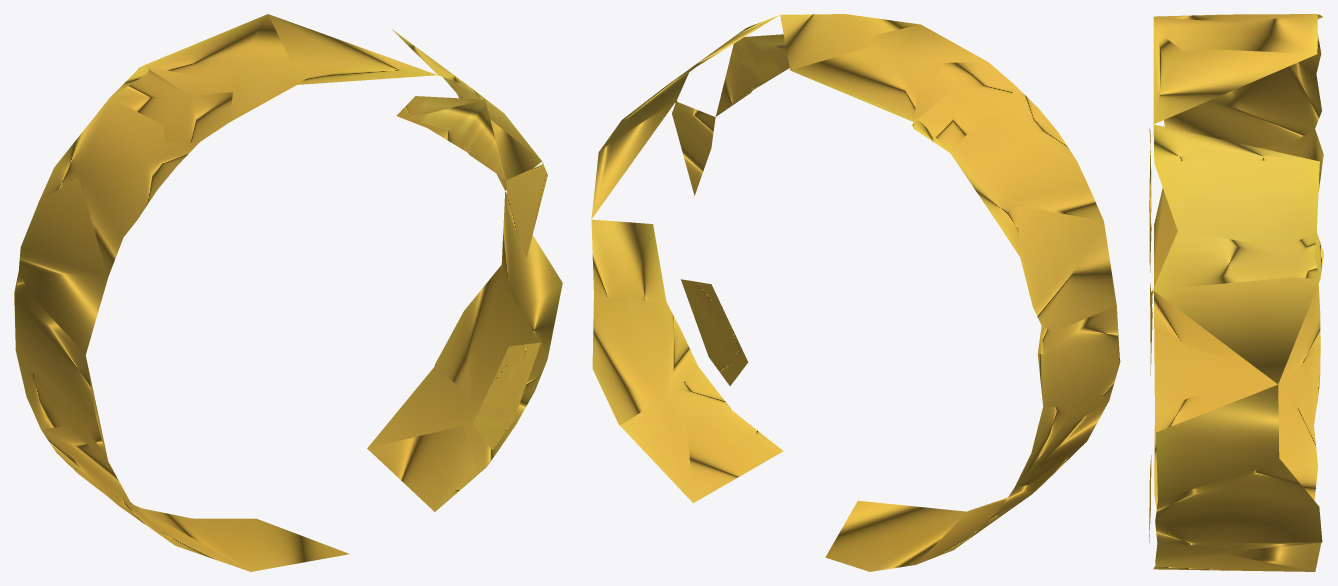
The model's file is coin_ring_model.glb.
The picture shows the model from 3 angles, left to right: view 1: azimuth 30°, elevation 25°; view 2: azimuth 150°, elevation 25°; view 3: azimuth 270°, elevation 25°; orthographic projection. The views are drawn at different scales.
Size of the model in its own units: 0.9824 by 0.9741 by 0.3075.
Materials: 1 (1 with a texture image).
